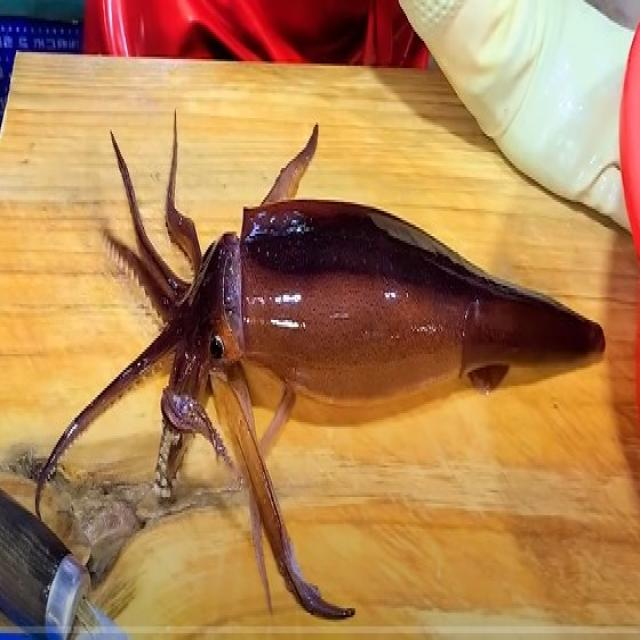SQUID: (60, 112, 638, 533)
